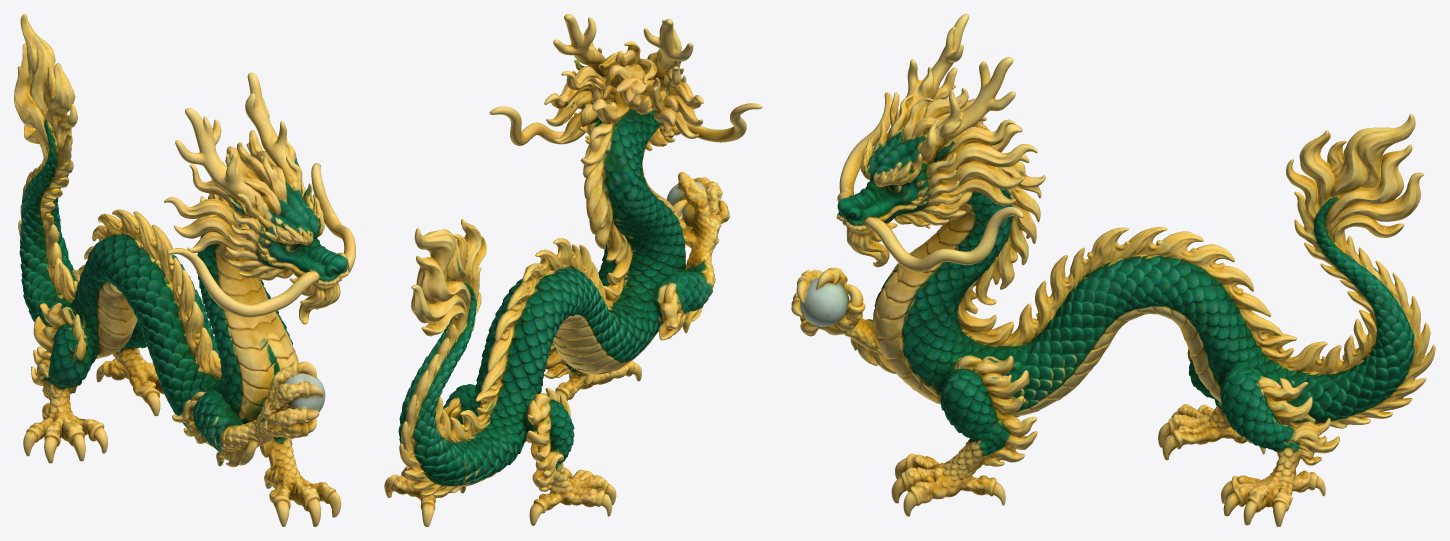
File: chinese-dragon-source.glb
3 renders of one model, left to right at view 1: azimuth 30°, elevation 25°; view 2: azimuth 150°, elevation 25°; view 3: azimuth 270°, elevation 25°, orthographic. The views are drawn at different scales.
Parts seen in each view (by area): view 1: chinese-dragon; view 2: chinese-dragon; view 3: chinese-dragon.
Boxes of the visible parts, left/top/right/bottom form: chinese-dragon: left=14, top=14, right=355, bottom=526; chinese-dragon: left=384, top=14, right=762, bottom=526; chinese-dragon: left=791, top=14, right=1435, bottom=526.
Bounding box in the file's own units: 3.28 × 6.06 × 8.
1 material, 1 textured.
